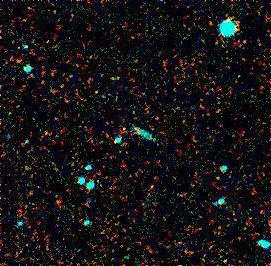star: (111, 110, 141, 140)
